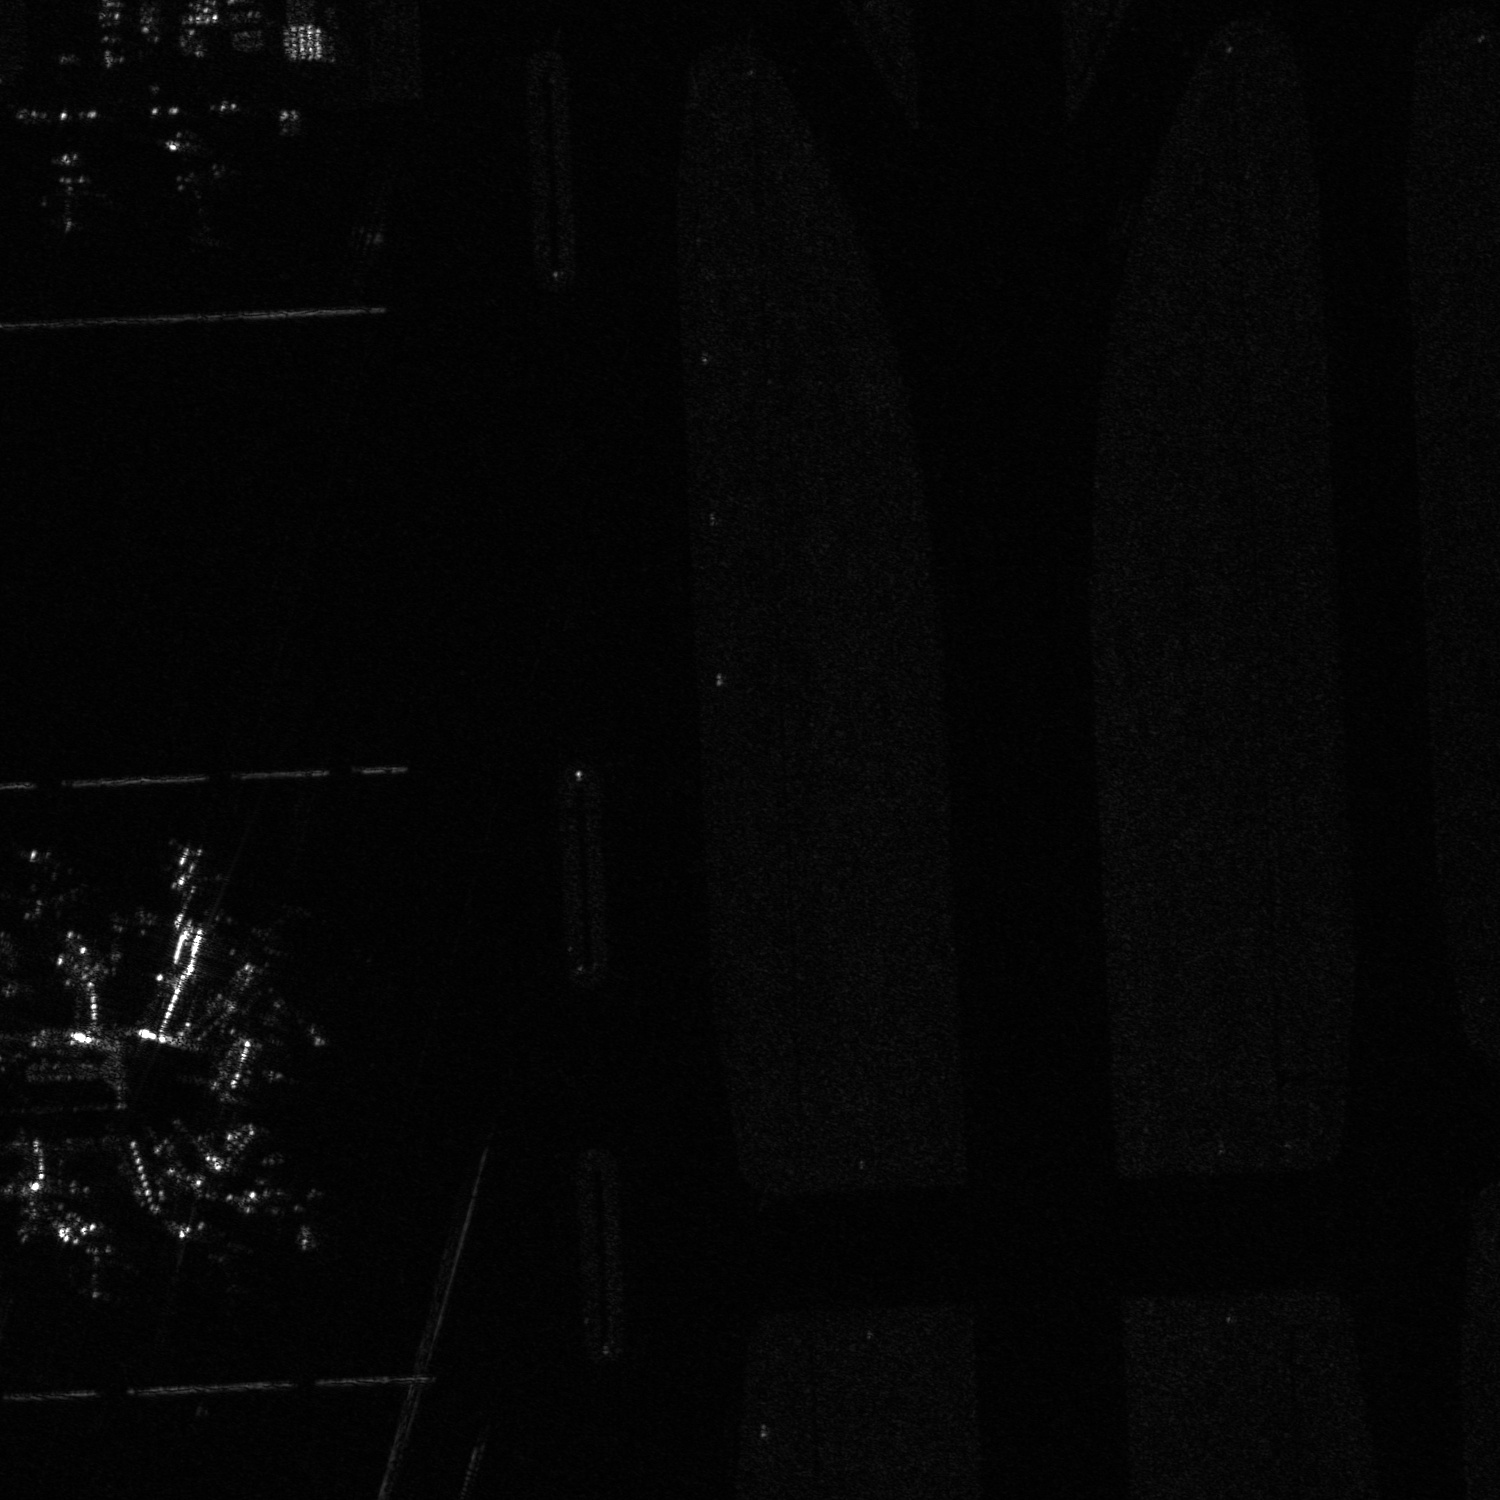A220: (236, 986, 310, 1049), (235, 908, 299, 977)
A320/321: (49, 1207, 140, 1306), (1, 841, 102, 924), (216, 1150, 308, 1229), (146, 837, 234, 896)
Boeing737: (18, 141, 120, 240), (155, 126, 236, 238), (163, 1212, 249, 1273)
